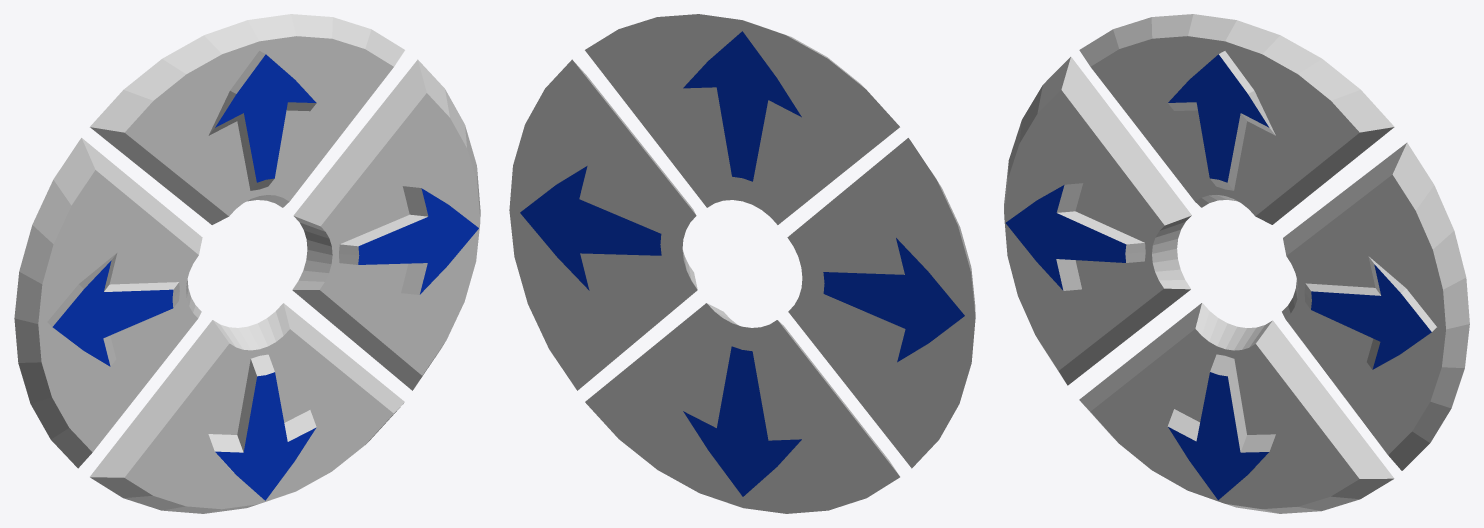
Rendered from Direction_3.fbx.
3 renders of one model, left to right at view 1: azimuth 30°, elevation 25°; view 2: azimuth 150°, elevation 25°; view 3: azimuth 330°, elevation 25°, orthographic.
Visible parts, largest first — view 1: 平面; view 2: 平面; view 3: 平面.
Part boxes in pixels (box(x1,y1,x2,y2)): 平面: box(14, 14, 480, 513); 平面: box(509, 14, 975, 513); 平面: box(1004, 14, 1469, 513).
Size of the model in its own units: 286 by 286 by 19.47.
